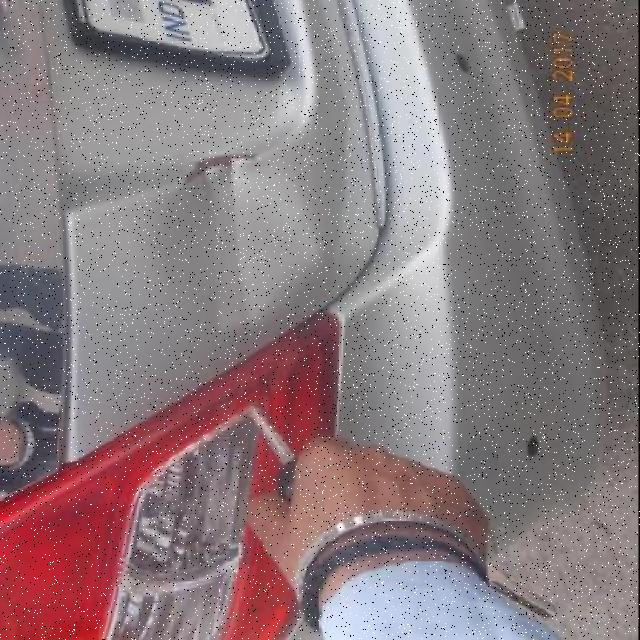damage: (182, 145, 332, 334), (181, 149, 260, 190)
